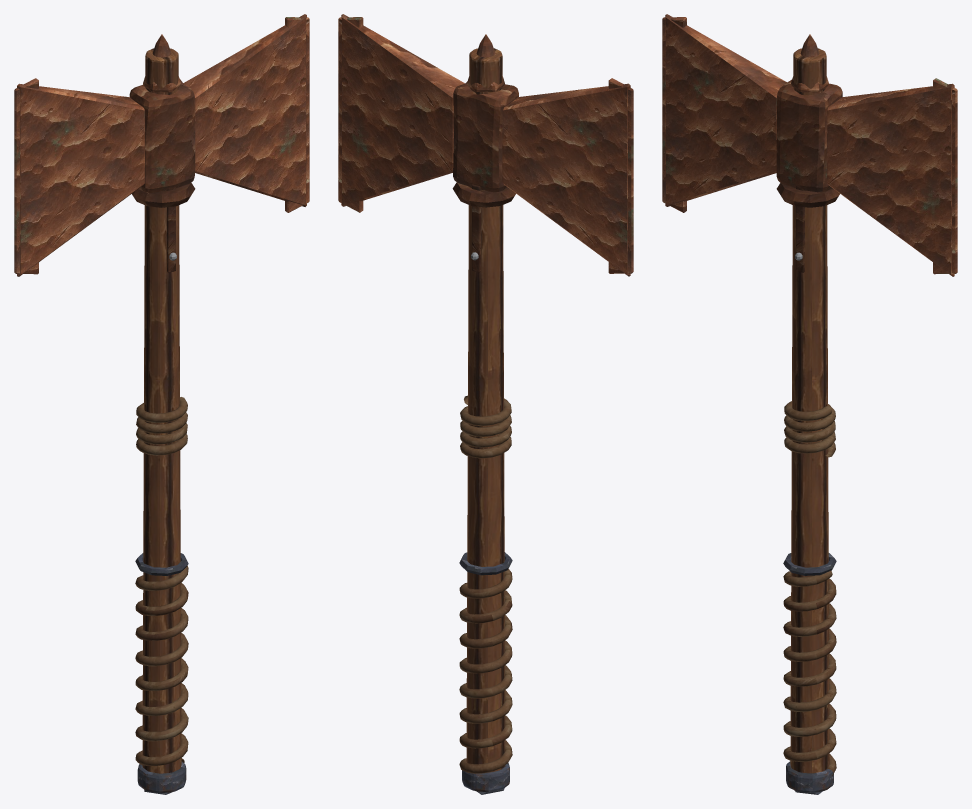
Rendered from axe_2h_copper.glb.
3 renders of one model, left to right at view 1: azimuth 30°, elevation 25°; view 2: azimuth 150°, elevation 25°; view 3: azimuth 330°, elevation 25°, orthographic.
Parts seen in each view (by area): view 1: model; view 2: model; view 3: model.
Part boxes in pixels (left/top/right/bottom): model: left=14, top=14, right=309, bottom=794; model: left=338, top=14, right=633, bottom=794; model: left=662, top=14, right=957, bottom=794.
Bounding box in the file's own units: 0.57 × 1.4 × 0.112.
Materials: 8 (7 with a texture image).
